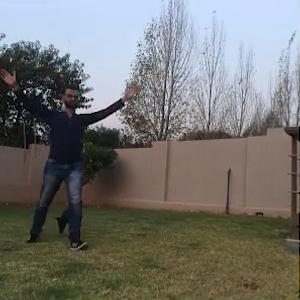takeoff: (4, 84, 125, 252)
